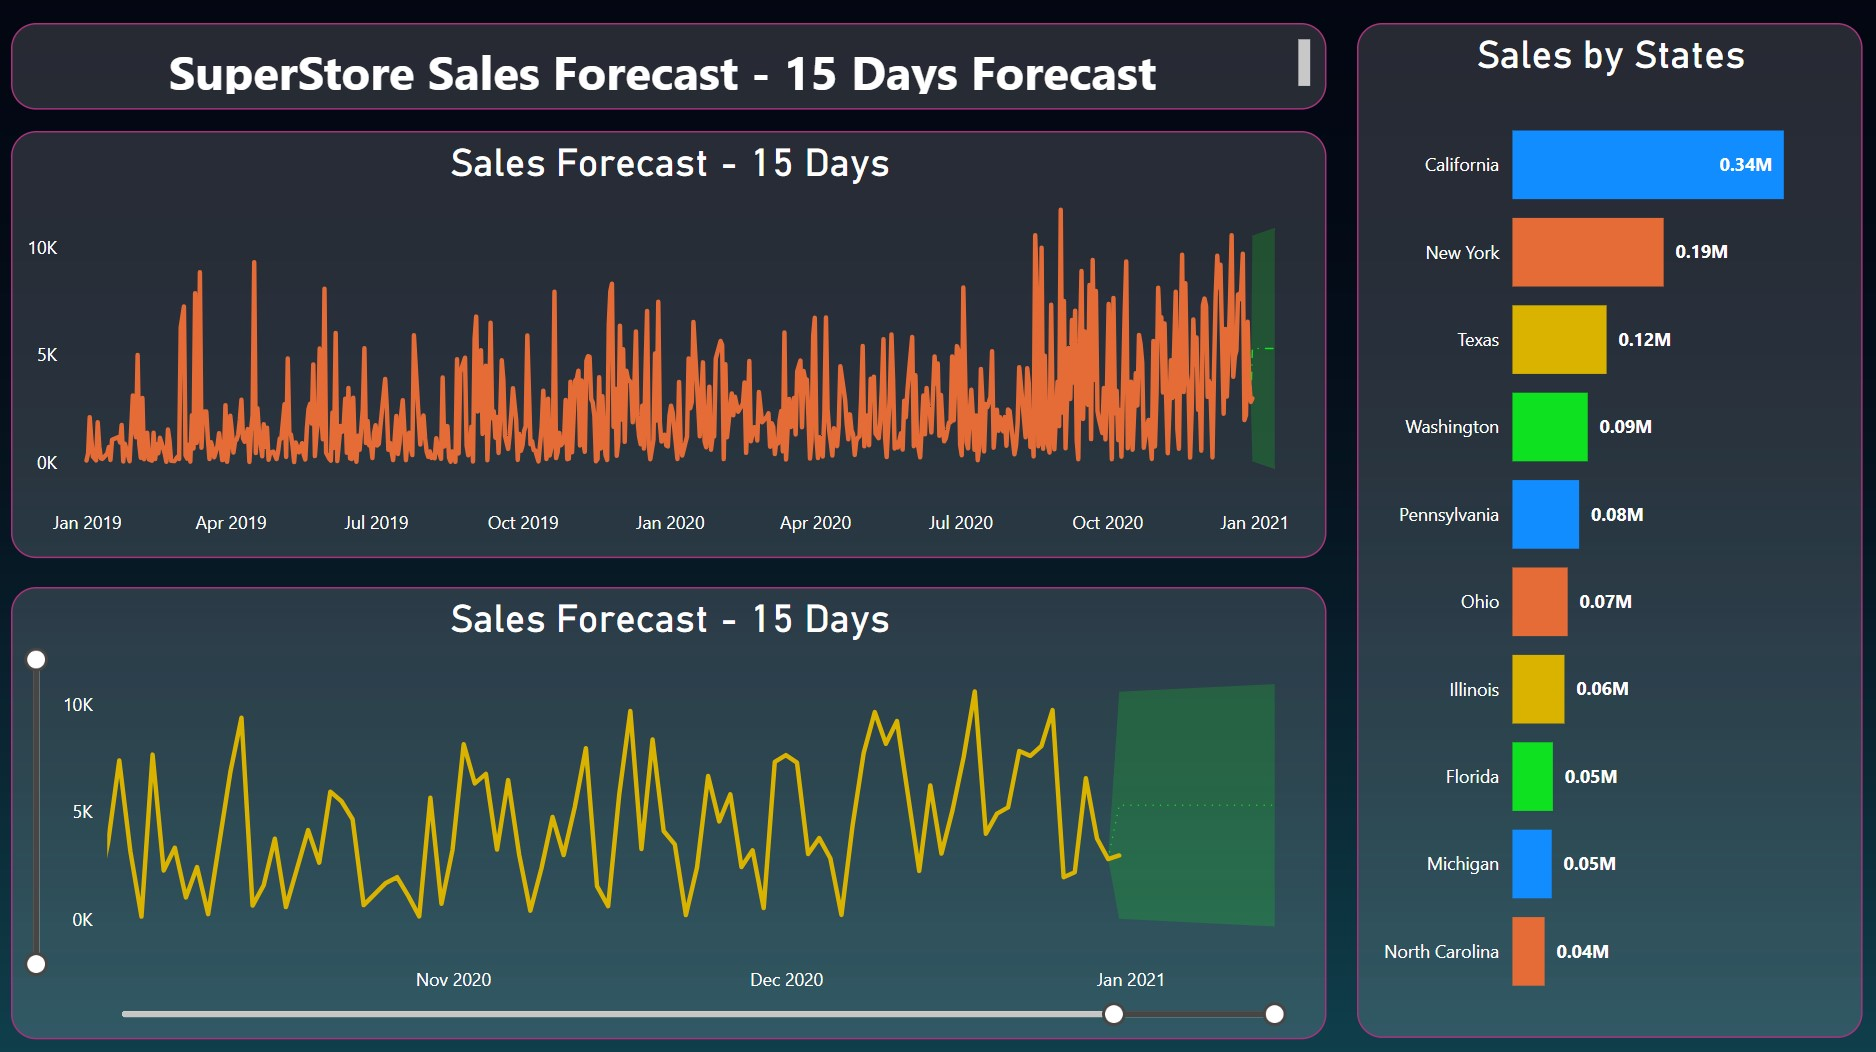

The page's visual inventory and layout, read from the dashboard file:
{"tool":"powerbi","page":{"name":"Forecast","canvas":[1280,720],"ordinal":1},"visuals":[{"type":"lineChart","title":"Sales Forecast - 15 Days","fields":{"Y":["Sum(SuperStore_Sales_Dataset.Sales)"],"Category":["SuperStore_Sales_Dataset.Order Date"]},"box":[14.3,90,888.6,288.6],"z":0},{"type":"clusteredBarChart","title":"Sales by States","fields":{"Y":["Sum(SuperStore_Sales_Dataset.Sales)"],"Category":["SuperStore_Sales_Dataset.State"]},"box":[924.3,17.1,341.4,685.7],"z":1000},{"type":"lineChart","title":"Sales Forecast - 15 Days","fields":{"Y":["Sum(SuperStore_Sales_Dataset.Sales)"],"Category":["SuperStore_Sales_Dataset.Order Date"]},"box":[14.3,398.6,888.6,305.7],"z":2000},{"type":"textbox","box":[14.3,17.1,888.6,58.6],"z":2001}]}

Visuals, with their boxes in screenshot pixels (x1, y1, x2, y2), scaled from the page's 1280x720 canvas onto the 1876x1052 screenshot:
"Sales Forecast - 15 Days" lineChart: bbox(21, 132, 1323, 553)
"Sales by States" clusteredBarChart: bbox(1355, 25, 1855, 1027)
"Sales Forecast - 15 Days" lineChart: bbox(21, 582, 1323, 1029)
textbox: bbox(21, 25, 1323, 111)
